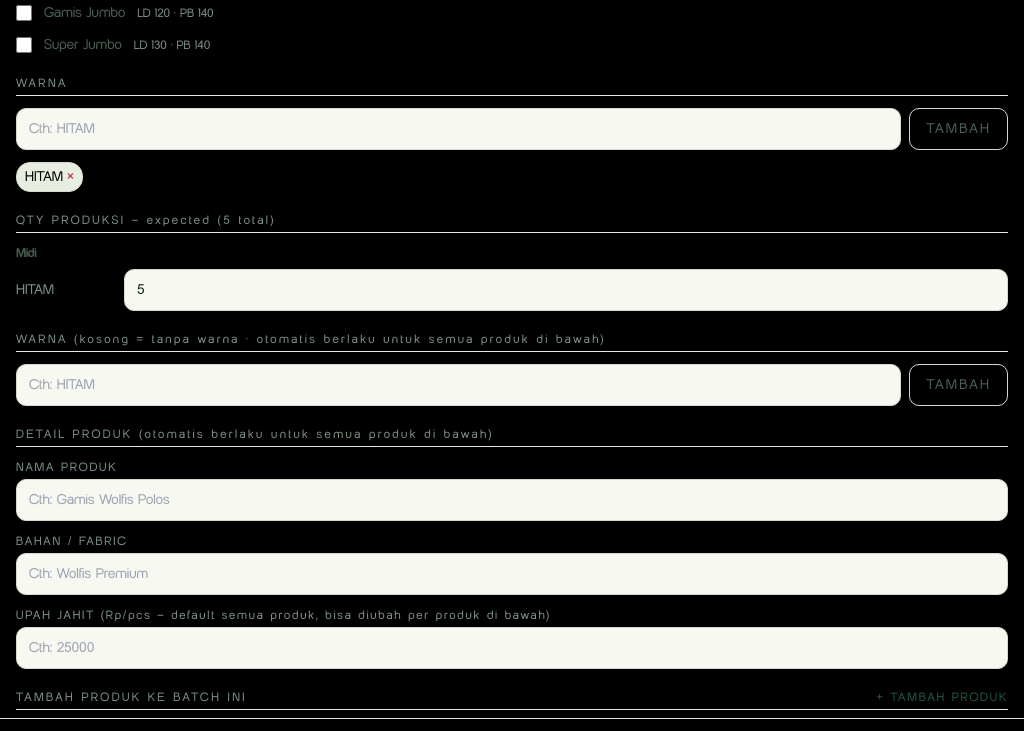
it: BatchForm — edit mode (isEdit=true) › adding a shared warna in edit mode does not affect the primary product's own warnaList section
This screenshot has width=1024, height=731.
(page scrolled)
Type "MERAH" into the 2nd field with placeholder "Cth: HITAM". click: (459, 384)
box: x1=16 y1=364 x2=901 y2=406
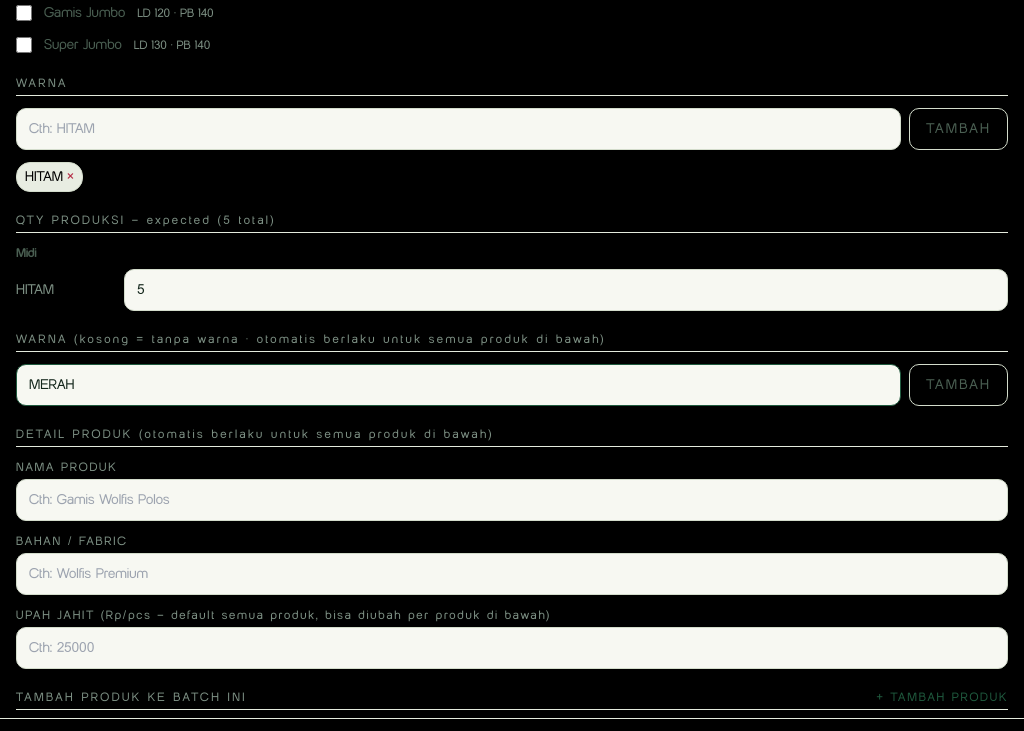
Click the 2nd button "Tambah". click: (959, 384)
box: x1=909 y1=364 x2=1008 y2=406
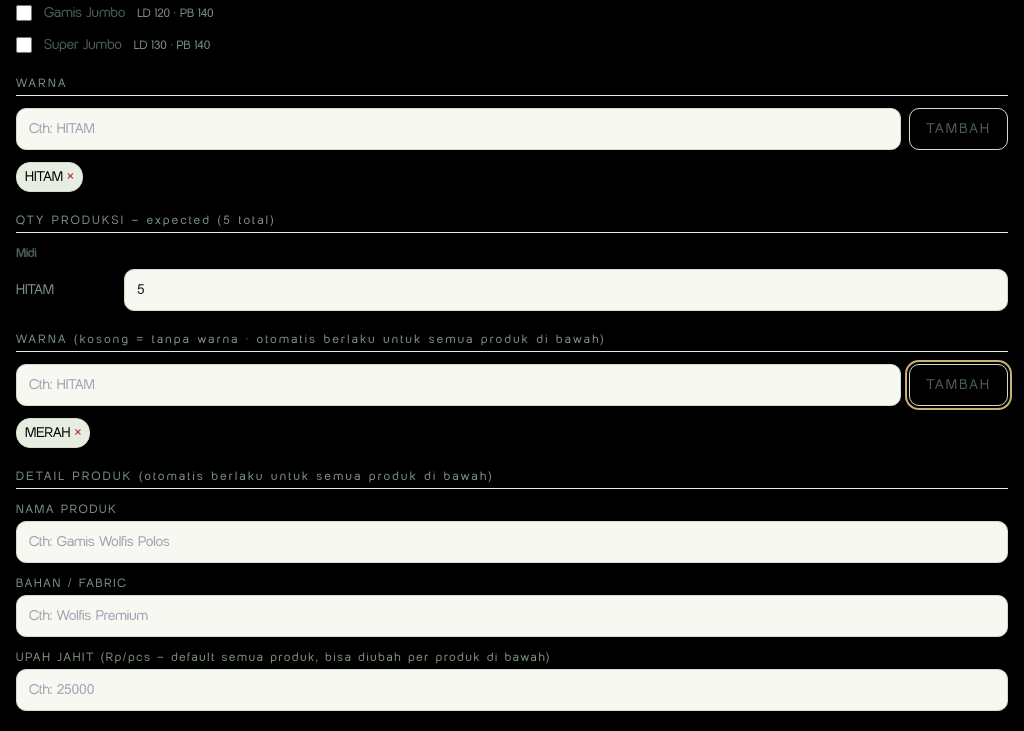
Expected: the text "HITAM" is shown 2 times, x1=16 y1=162 x2=83 y2=192; x1=16 y1=280 x2=54 y2=298
Result: the text "MERAH" is shown at x1=25 y1=424 x2=70 y2=440
